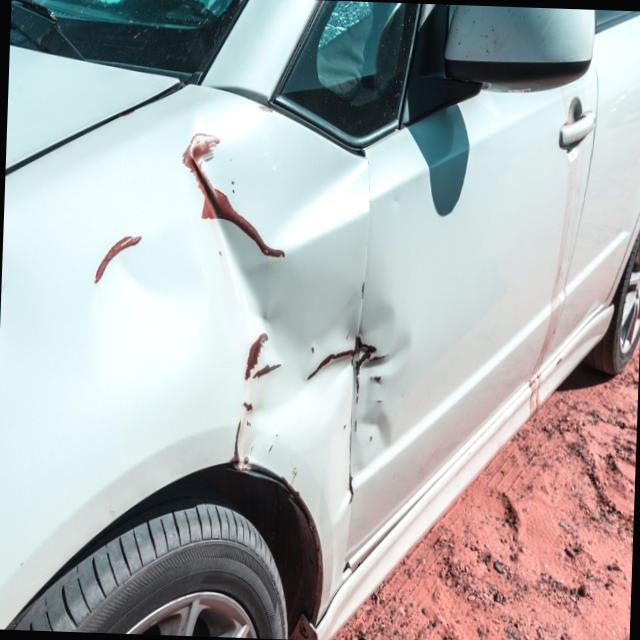Cabossage: (328, 260, 425, 517), (223, 250, 301, 374)
Rayure: (179, 139, 289, 261), (221, 323, 288, 468), (302, 336, 397, 401), (91, 210, 149, 302)
